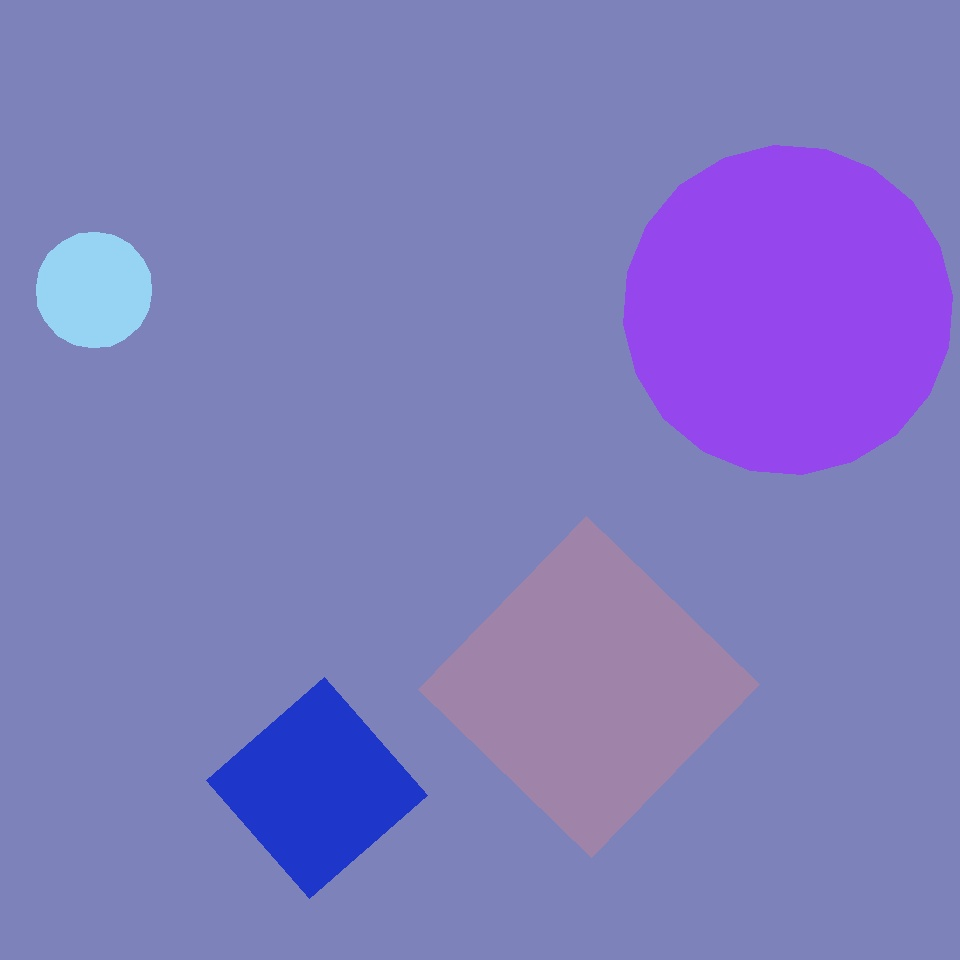circle: (312, 189, 571, 421)
square: (418, 516, 760, 858), (147, 339, 468, 660), (206, 678, 428, 898), (606, 585, 800, 779)
triangle: (624, 146, 952, 474), (36, 232, 152, 347)
